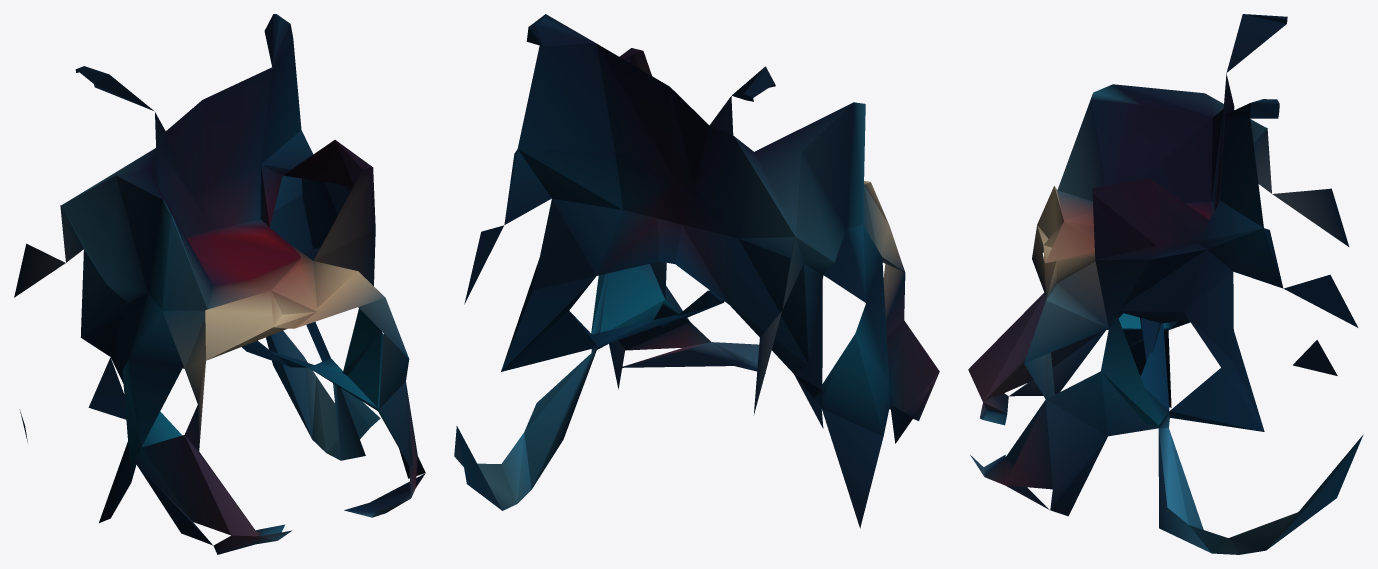
The picture shows the model from 3 angles, left to right: view 1: azimuth 30°, elevation 25°; view 2: azimuth 150°, elevation 25°; view 3: azimuth 270°, elevation 25°; orthographic projection. The views are drawn at different scales.
Size of the model in its own units: 0.771 by 1.1 by 0.899.
